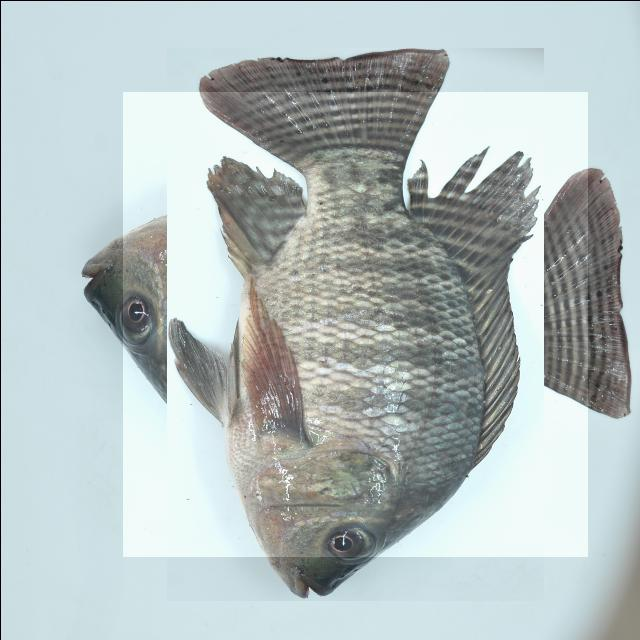Healthy Fish: (122, 91, 587, 556)
